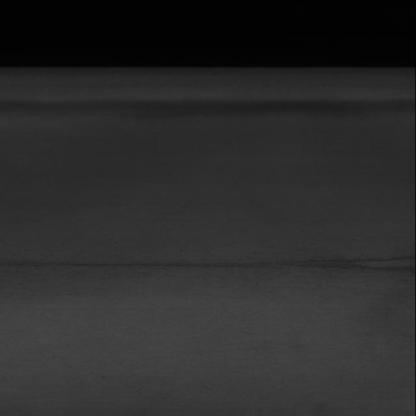silk_spot: (10, 237, 411, 280)
